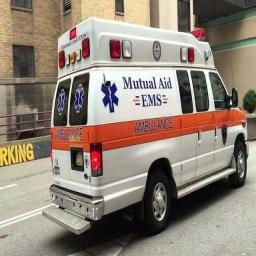ambulance: (43, 18, 247, 233)
